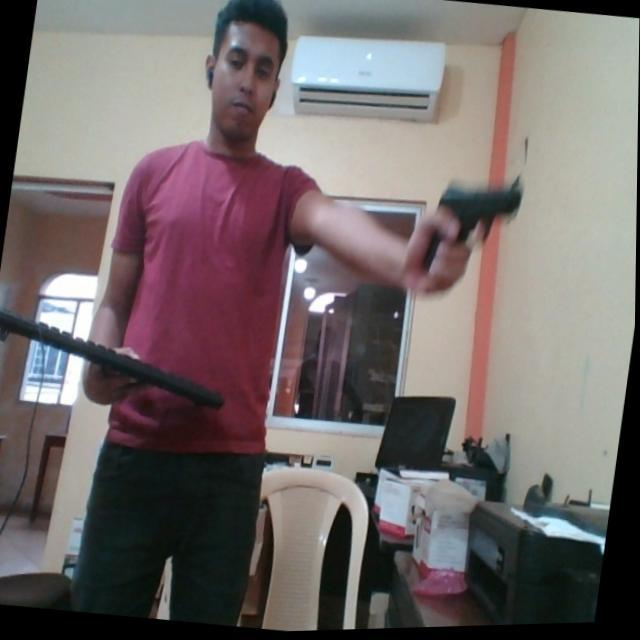weapon: (412, 174, 526, 281)
